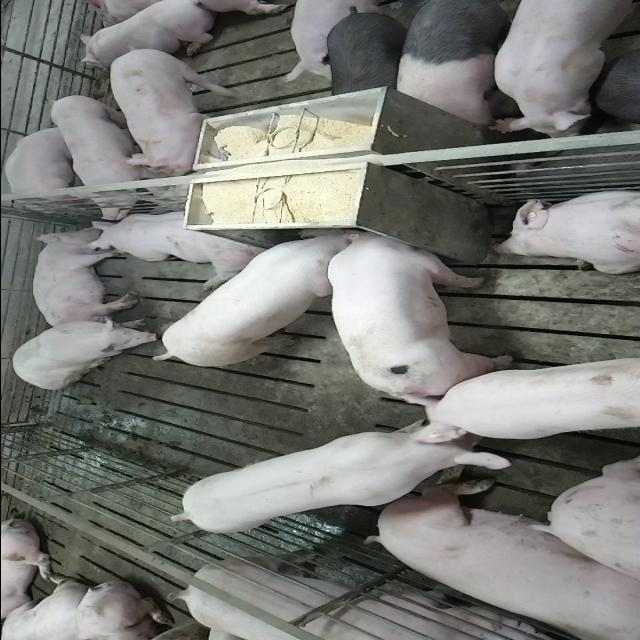Feeding: (325, 220, 507, 396), (143, 230, 355, 372)
Lateral_lying: (29, 226, 139, 329)
Sitting: (6, 316, 160, 390)
Standing: (168, 417, 510, 535), (172, 550, 590, 640), (489, 2, 640, 139), (418, 353, 640, 443), (110, 46, 237, 176), (390, 2, 521, 128), (324, 7, 412, 102)
Sternal_lying: (85, 208, 268, 284), (490, 187, 640, 275), (74, 2, 221, 66), (3, 125, 89, 207)
